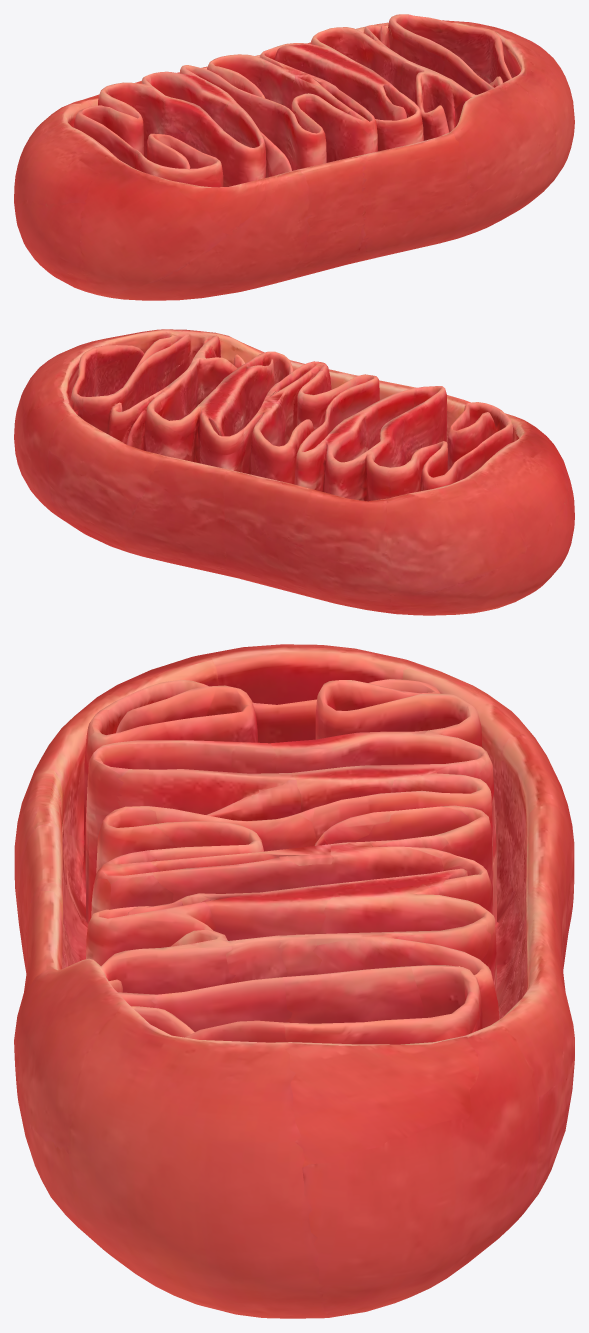
Rendered from mitochondria.glb.
3 renders of one model, top to bottom at view 1: azimuth 30°, elevation 25°; view 2: azimuth 150°, elevation 25°; view 3: azimuth 270°, elevation 25°, orthographic. The views are drawn at different scales.
Visible parts, largest first — view 1: mesh_node; view 2: mesh_node; view 3: mesh_node.
Part boxes in pixels (box(x1,y1,x2,y2)): mesh_node: box(14, 14, 574, 300); mesh_node: box(14, 329, 574, 615); mesh_node: box(14, 644, 574, 1318).
Size of the model in its own units: 1.9 by 0.5615 by 0.9136.
1 material, 1 textured.
